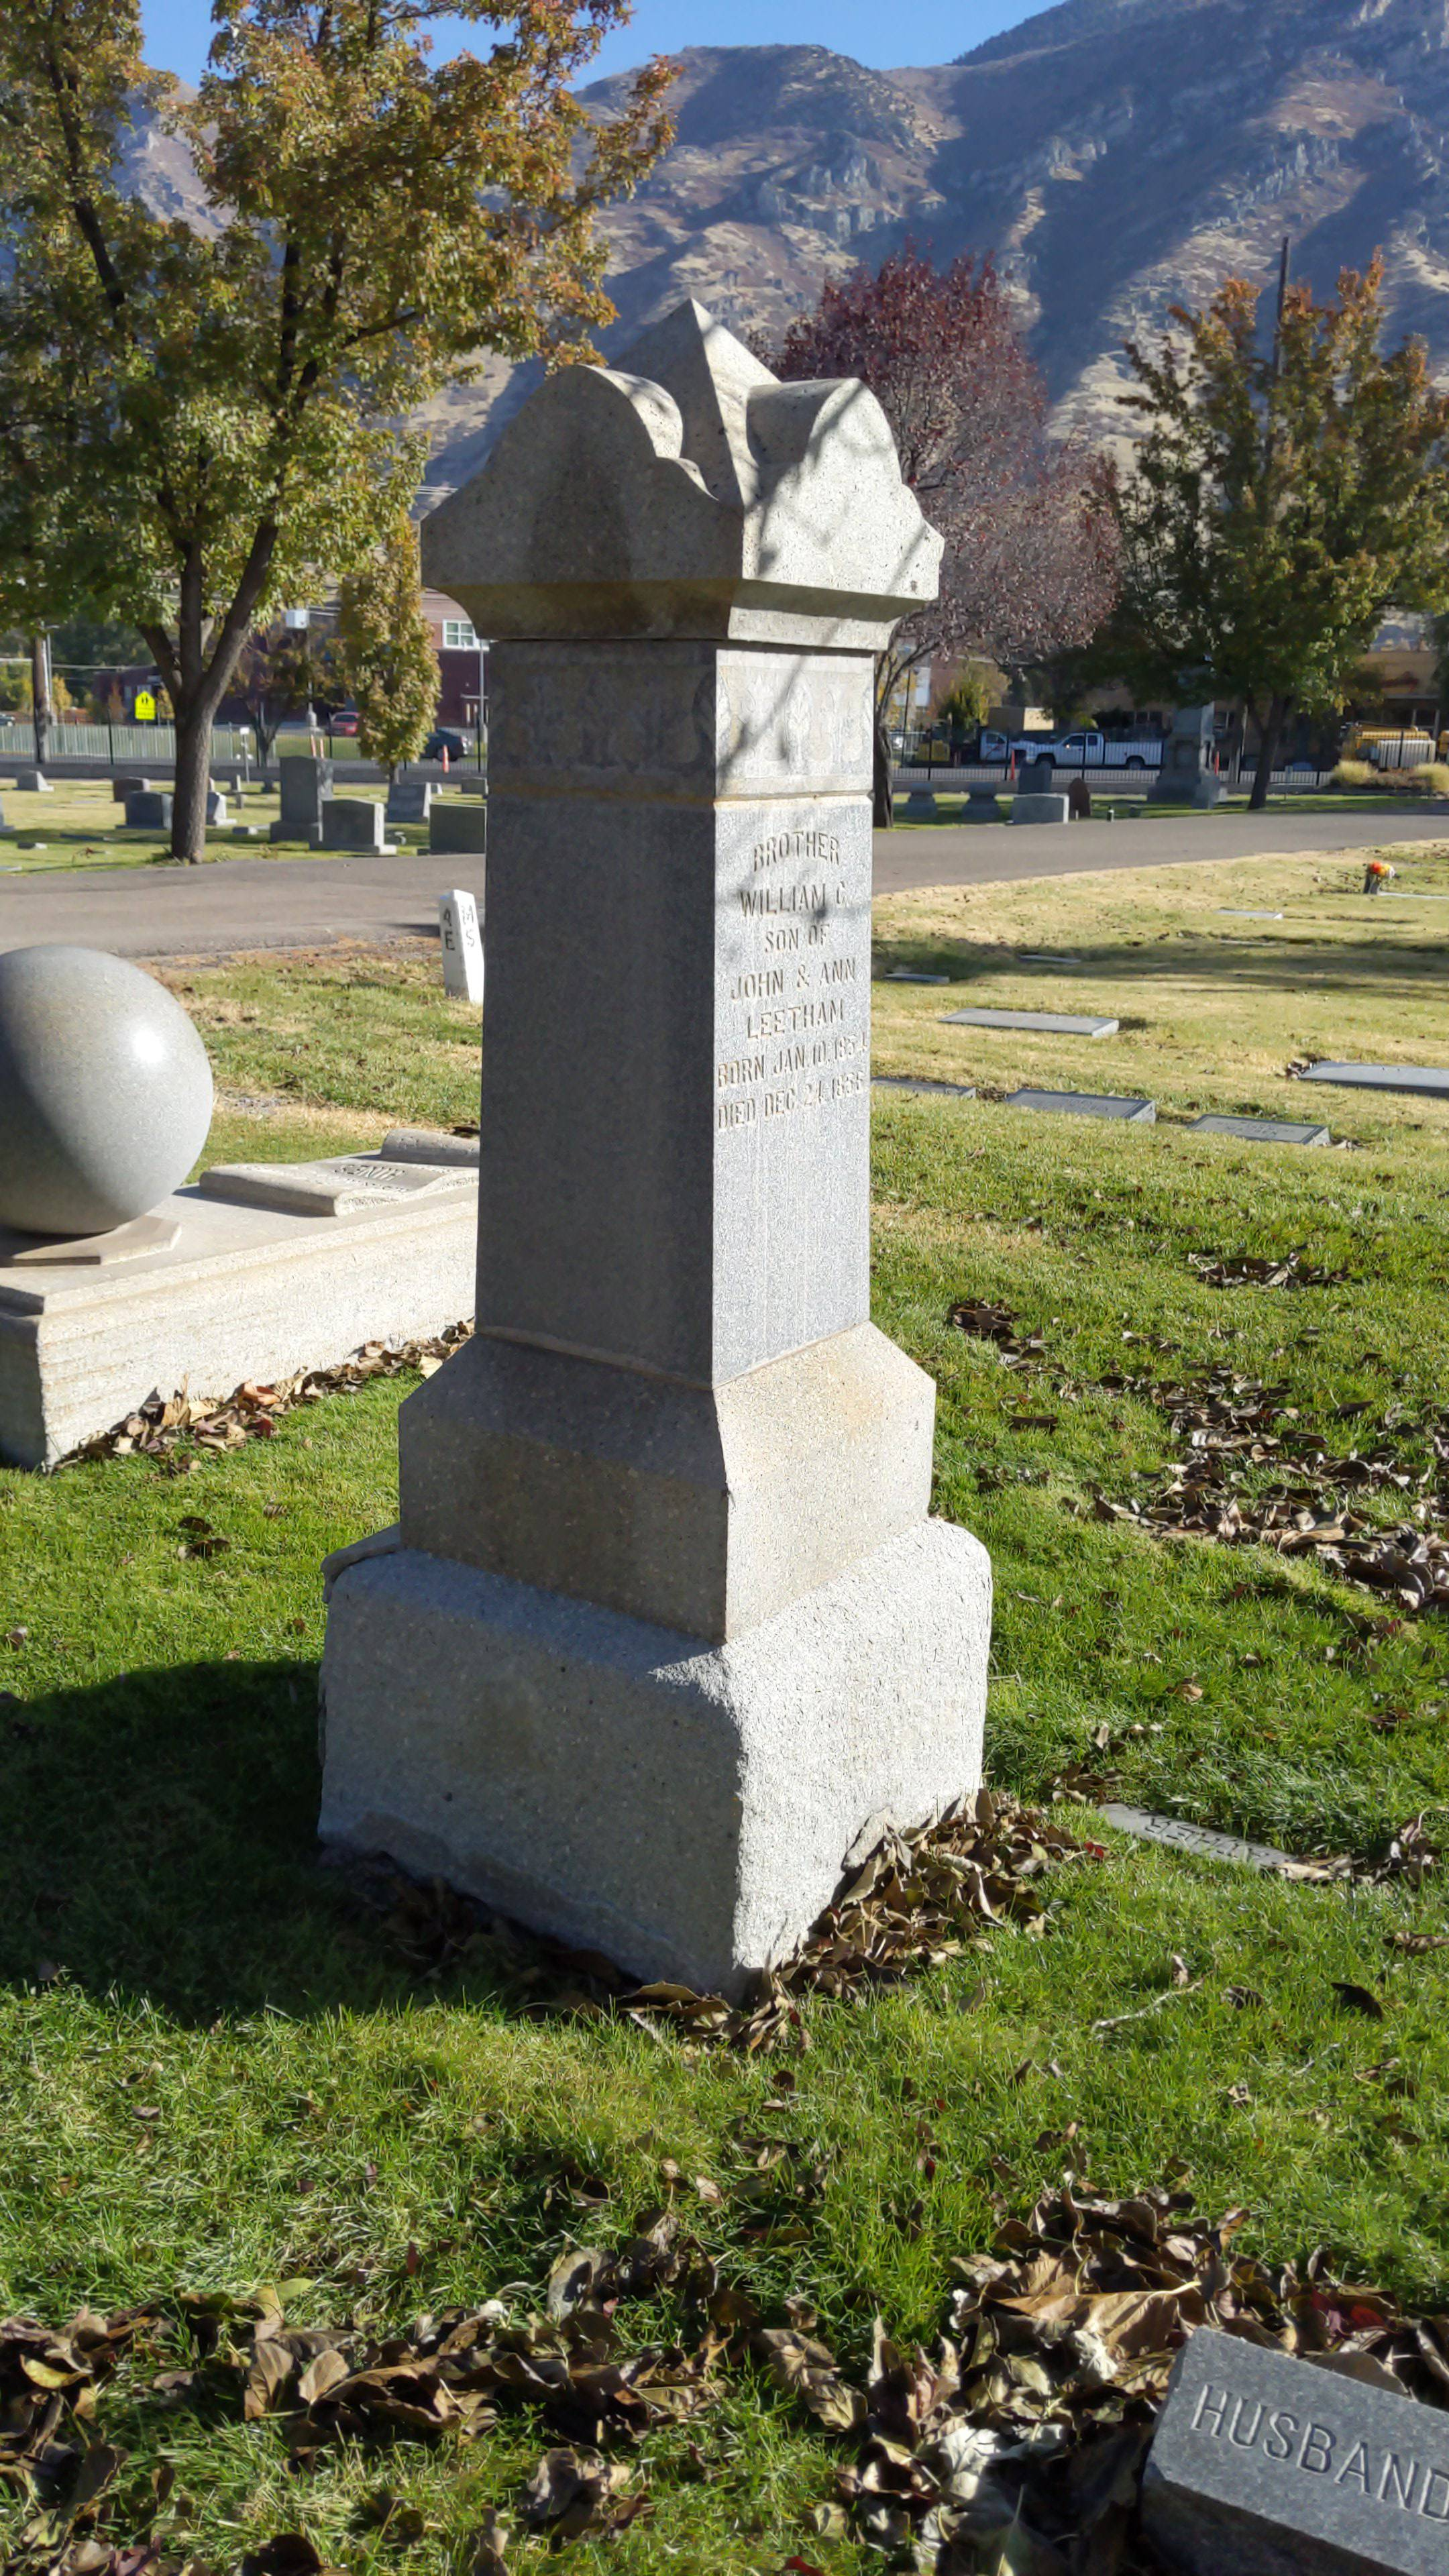obelisk: (400, 299, 932, 1642)
